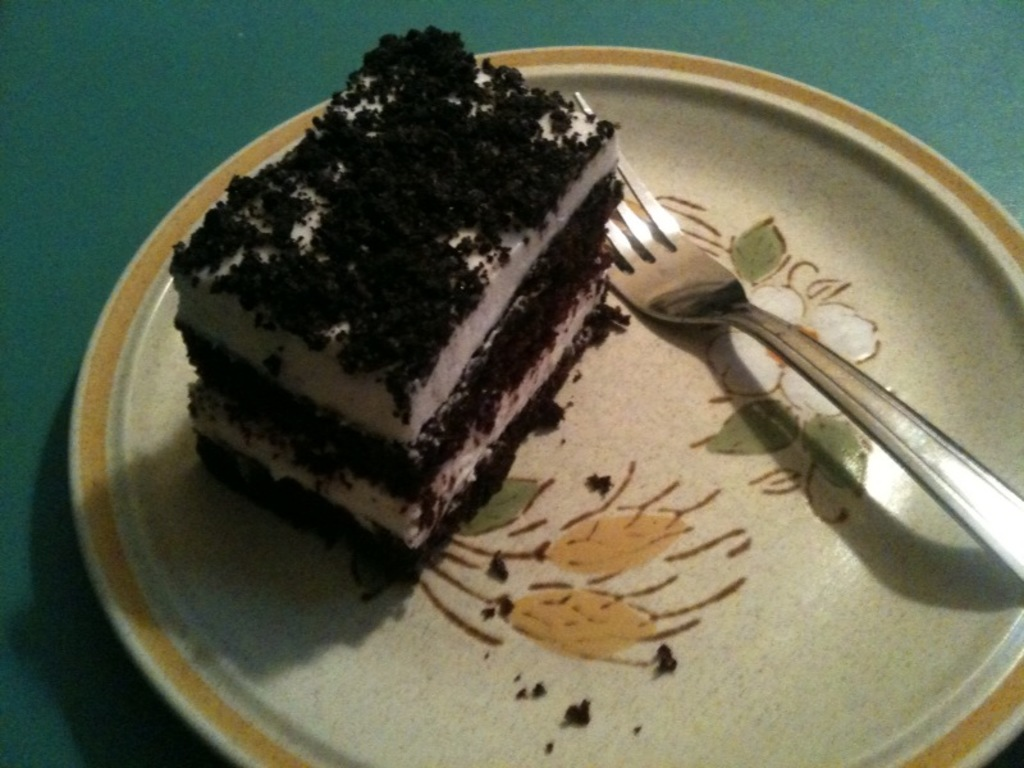cake: (165, 23, 621, 589)
